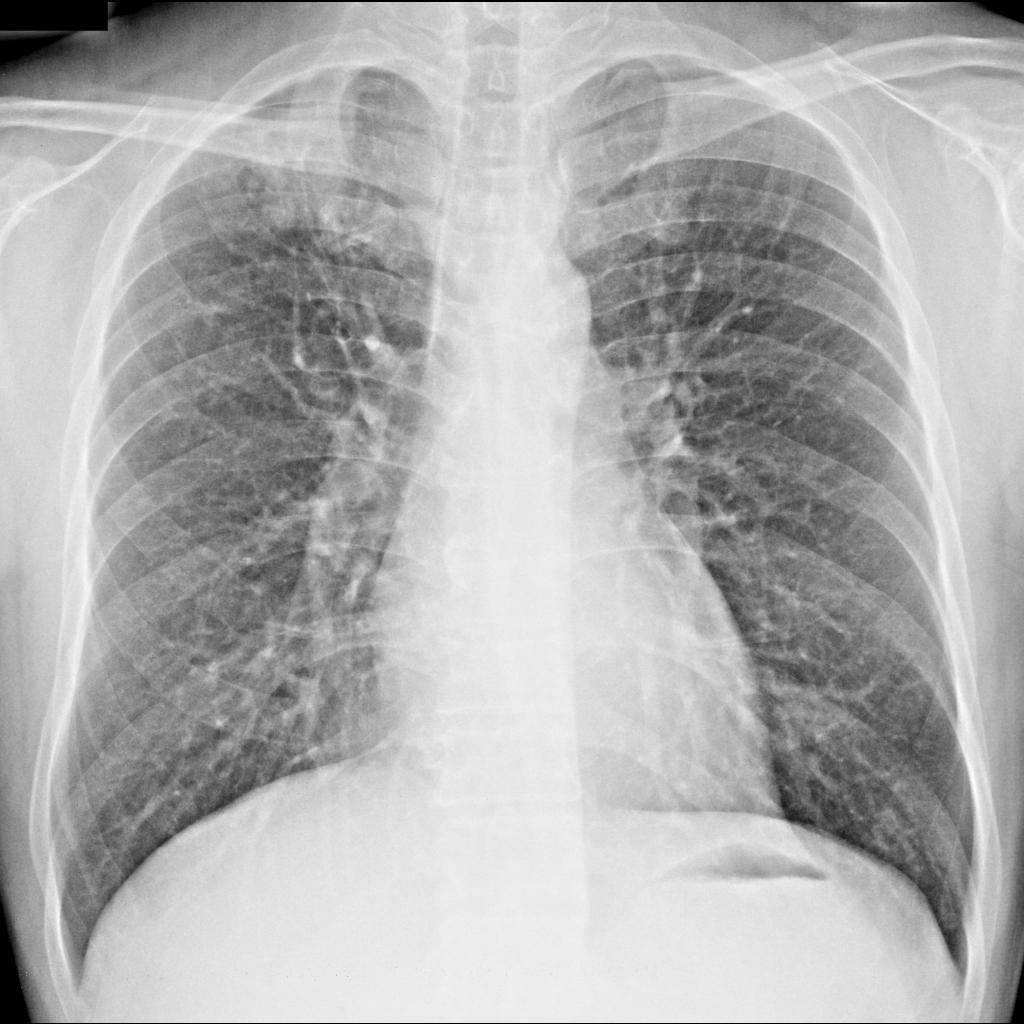Nodule: (245, 103, 346, 203)
